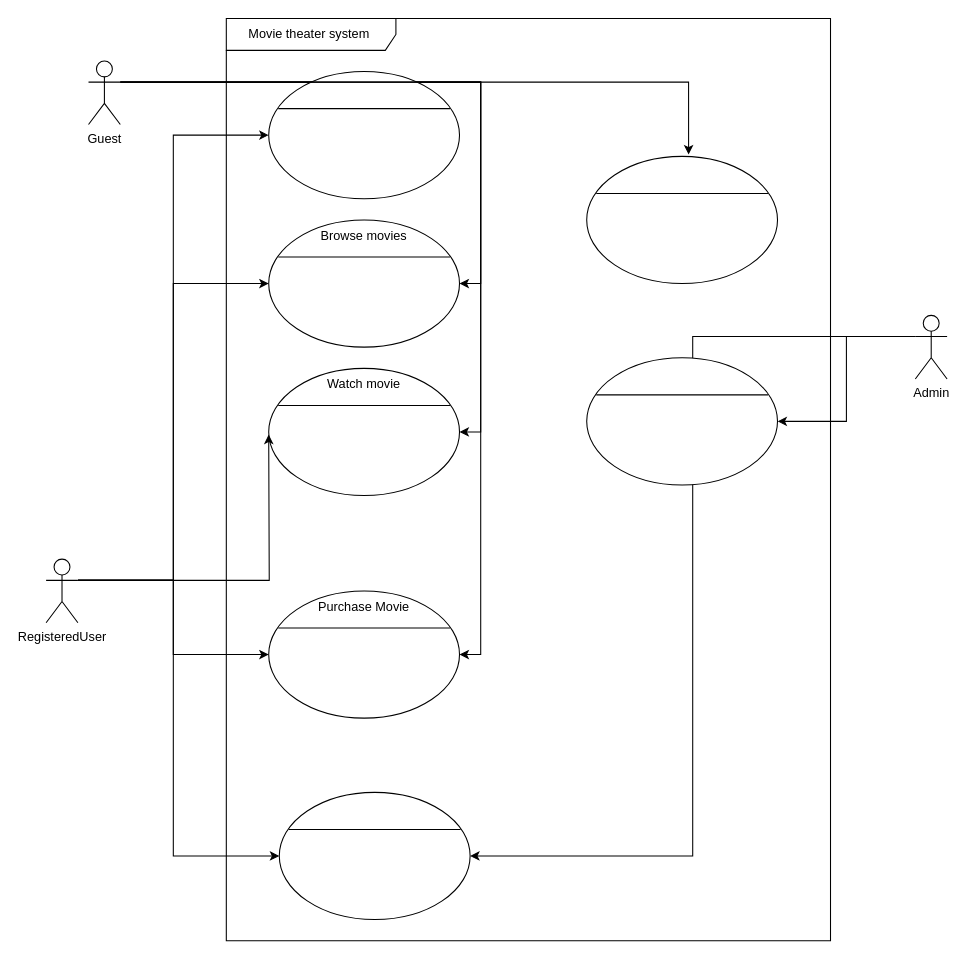
Image size: 968x959. Some labels were removed from this diagram. Each missing label, with the centre of its shape:
Login: point (374, 855)
Manage Content: point (682, 421)
Register: point (682, 219)
Rent Movie: point (364, 134)
